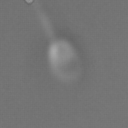normal: (36, 1, 59, 40)
